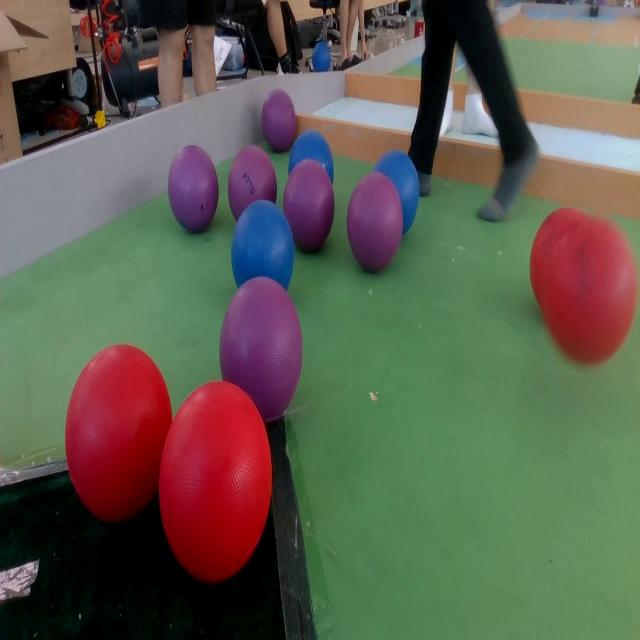blue: (230, 198, 293, 295), (374, 147, 418, 235), (289, 128, 334, 192)
invalid: (220, 276, 298, 414), (346, 173, 402, 271), (286, 161, 334, 256), (168, 146, 218, 232), (228, 150, 276, 224), (262, 88, 298, 153)
red: (160, 382, 272, 582), (64, 341, 173, 524), (542, 217, 638, 367), (531, 206, 586, 311)
